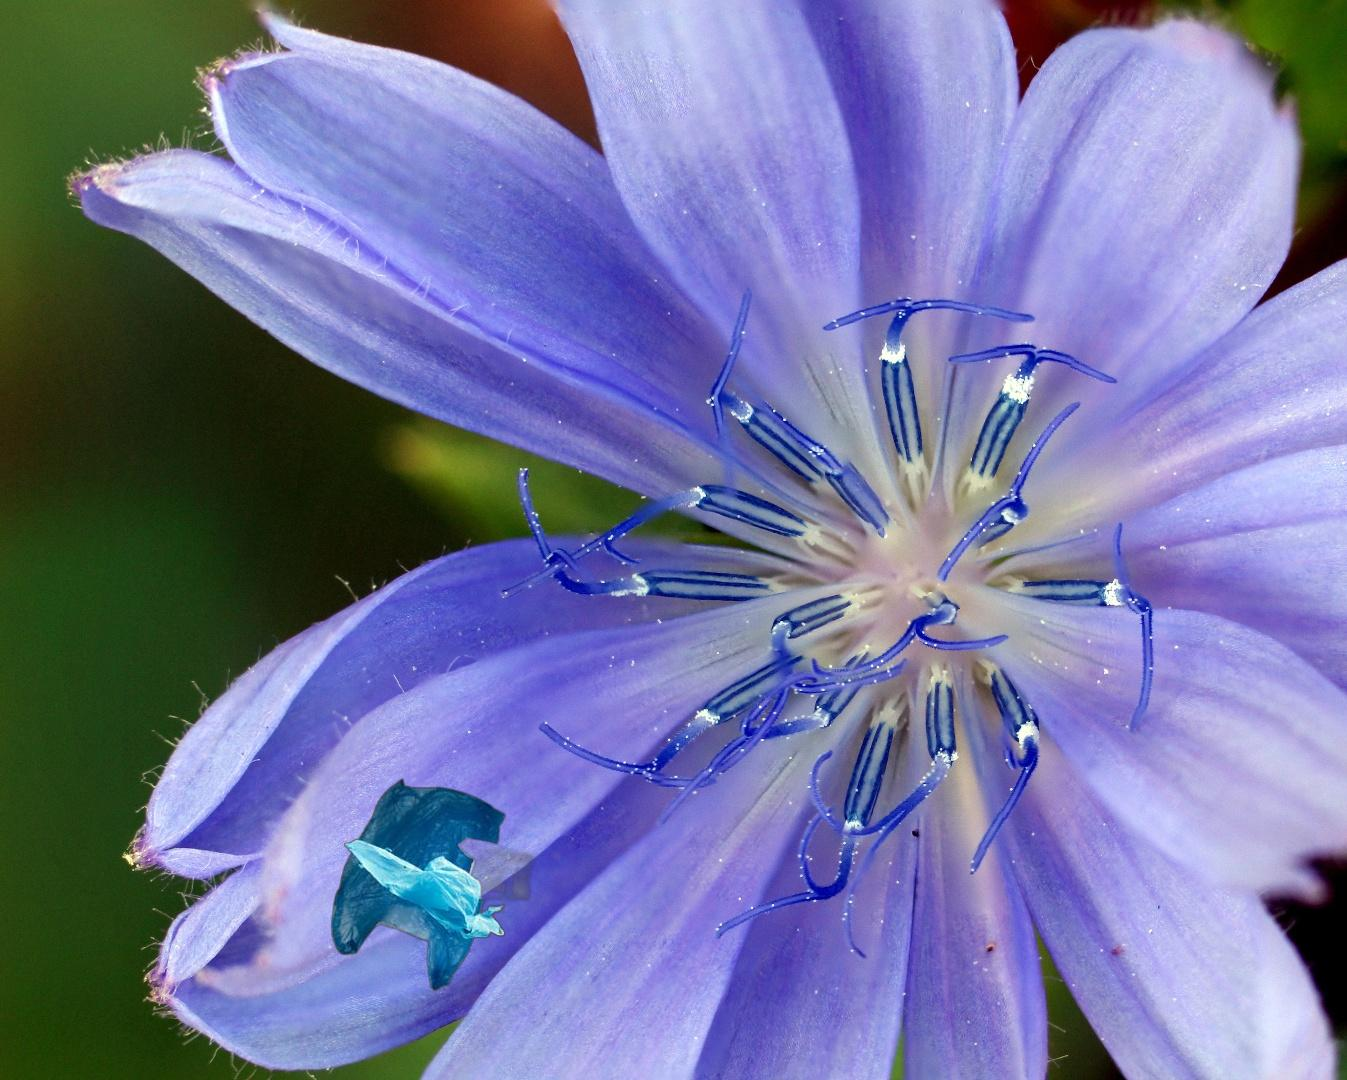plastic-bag: (330, 776, 539, 994)
